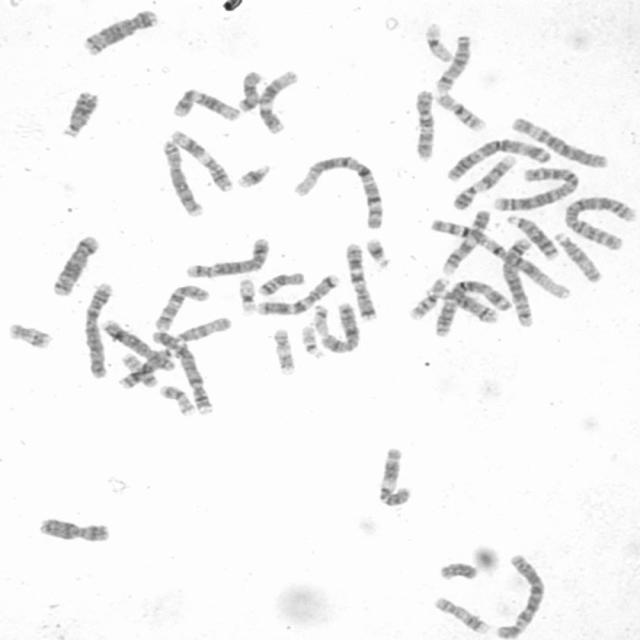A1: (428, 213, 574, 301), (288, 150, 388, 232)
A2: (561, 192, 639, 252), (491, 163, 582, 212)
A3: (442, 133, 552, 182), (431, 276, 512, 338)
B4: (148, 326, 217, 416), (80, 277, 116, 380)
B5: (182, 233, 273, 280), (499, 234, 536, 328)
C10: (150, 281, 212, 332), (410, 84, 438, 163)
C11: (167, 126, 236, 193), (373, 442, 415, 508)
C12: (254, 66, 301, 136), (168, 84, 242, 122)
C6: (507, 113, 611, 169), (492, 551, 549, 639)
C7: (252, 269, 342, 317), (342, 238, 381, 322)
C8: (99, 316, 177, 372), (157, 136, 205, 218)
C9: (450, 151, 518, 211), (438, 204, 493, 276)
D13: (501, 210, 560, 260), (58, 86, 101, 139)
D14: (82, 12, 158, 55), (432, 31, 472, 93)
D15: (550, 228, 605, 284), (171, 313, 234, 343)
E16: (432, 89, 488, 132), (406, 275, 450, 321)
E17: (430, 592, 491, 636), (270, 324, 298, 376)
E18: (256, 268, 306, 298), (235, 67, 264, 112)
F19: (420, 18, 456, 64), (234, 273, 259, 317)
F20: (116, 350, 161, 389), (156, 380, 198, 417)
G21: (233, 160, 274, 190), (361, 234, 393, 269)
G22: (297, 321, 327, 361), (309, 301, 332, 336)
X: (316, 298, 364, 354), (35, 513, 113, 544)
Y: (436, 558, 480, 582)
